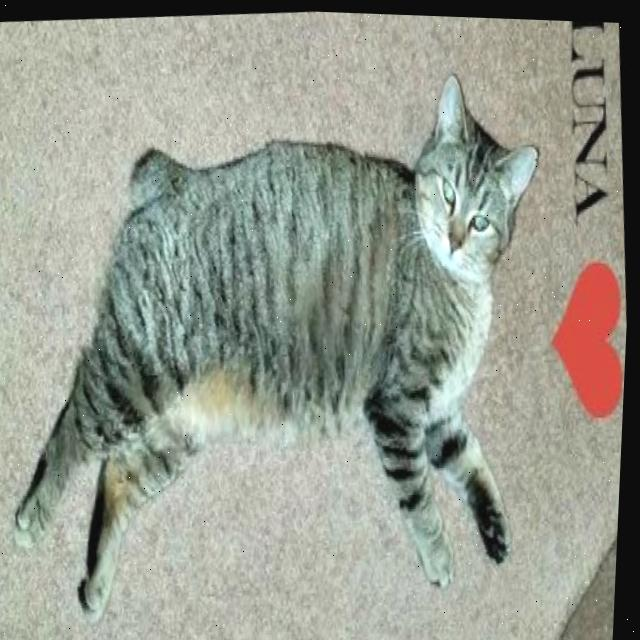American Bobtail: (0, 44, 579, 640)
